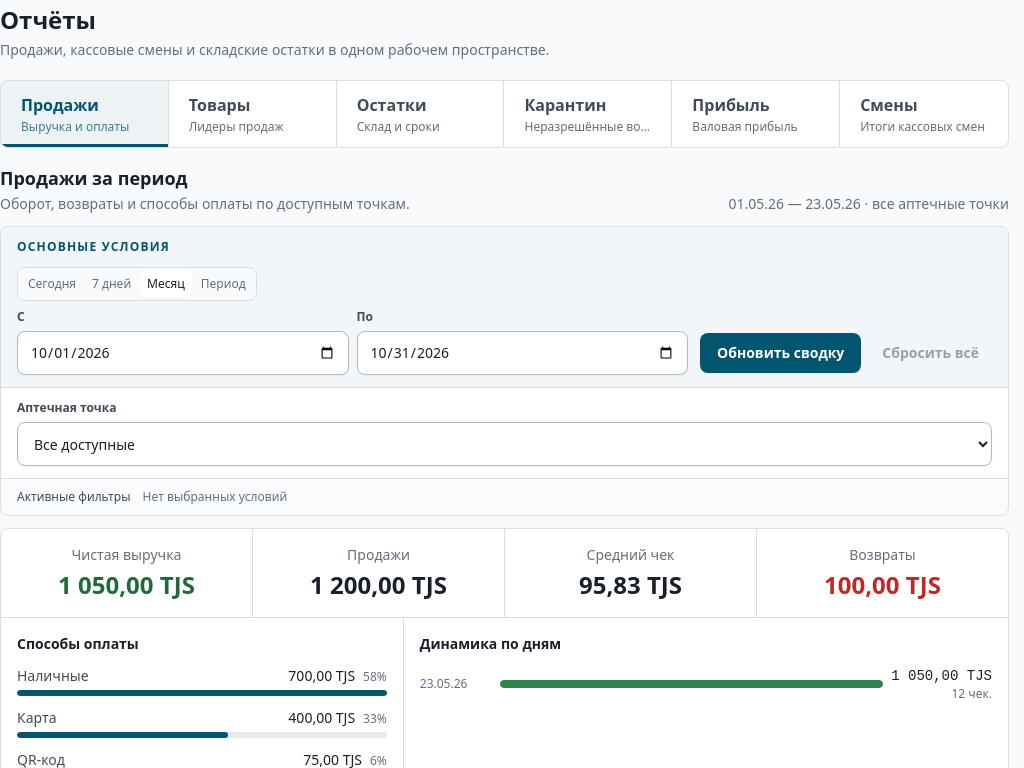
Test: ReportsPage › hides every export action when the account can only view reports
The image size is (1024, 768).
expect the text "Чистая выручка" is shown: met, box [72, 545, 181, 564]
Click the tab "Остатки Склад и сроки" at (421, 114), box [337, 81, 504, 147]
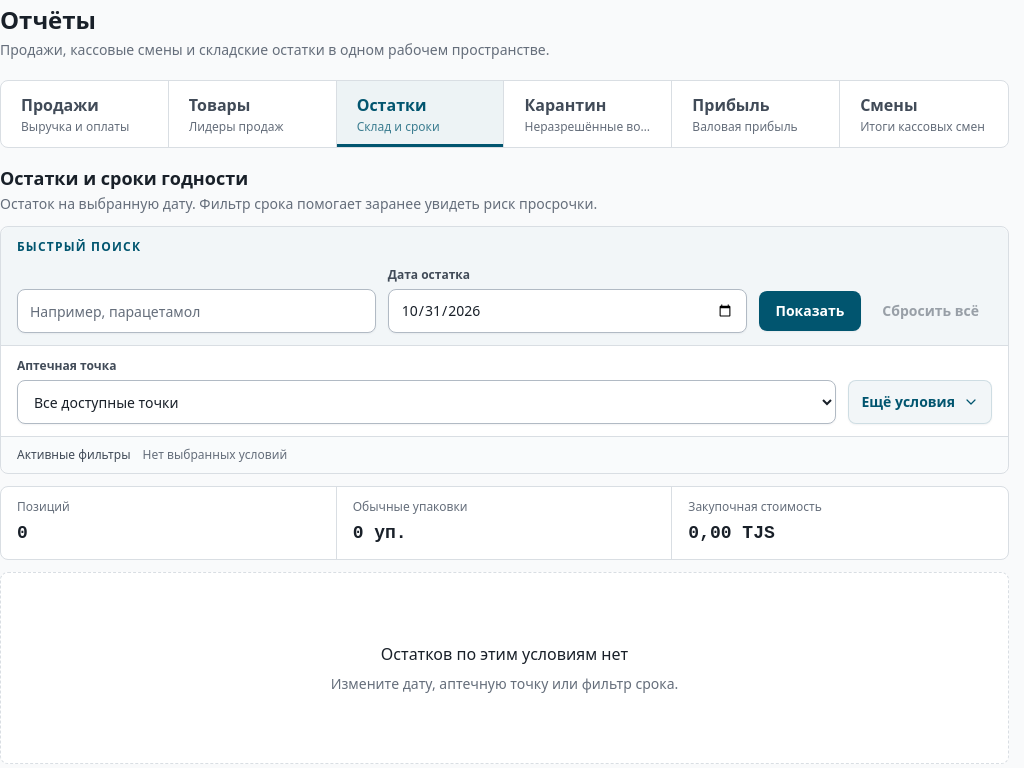
Click the tab "Смены Итоги кассовых смен" at (924, 114), box [840, 81, 1008, 147]
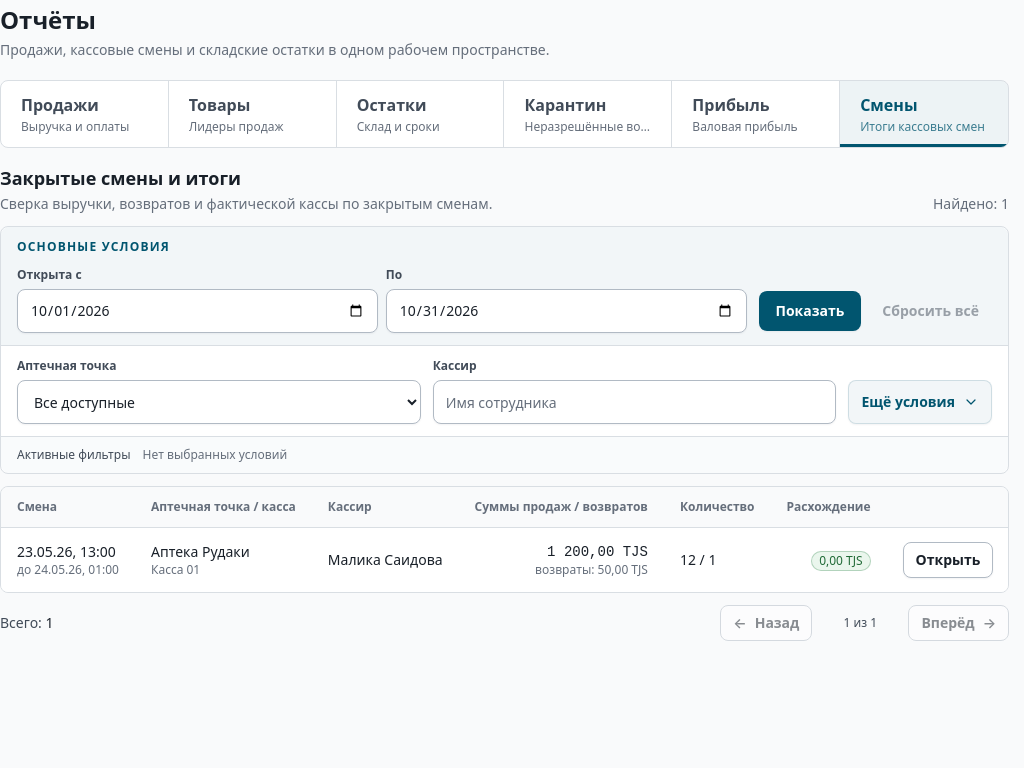
Click the button "Открыть" at (948, 560), box [903, 542, 993, 578]
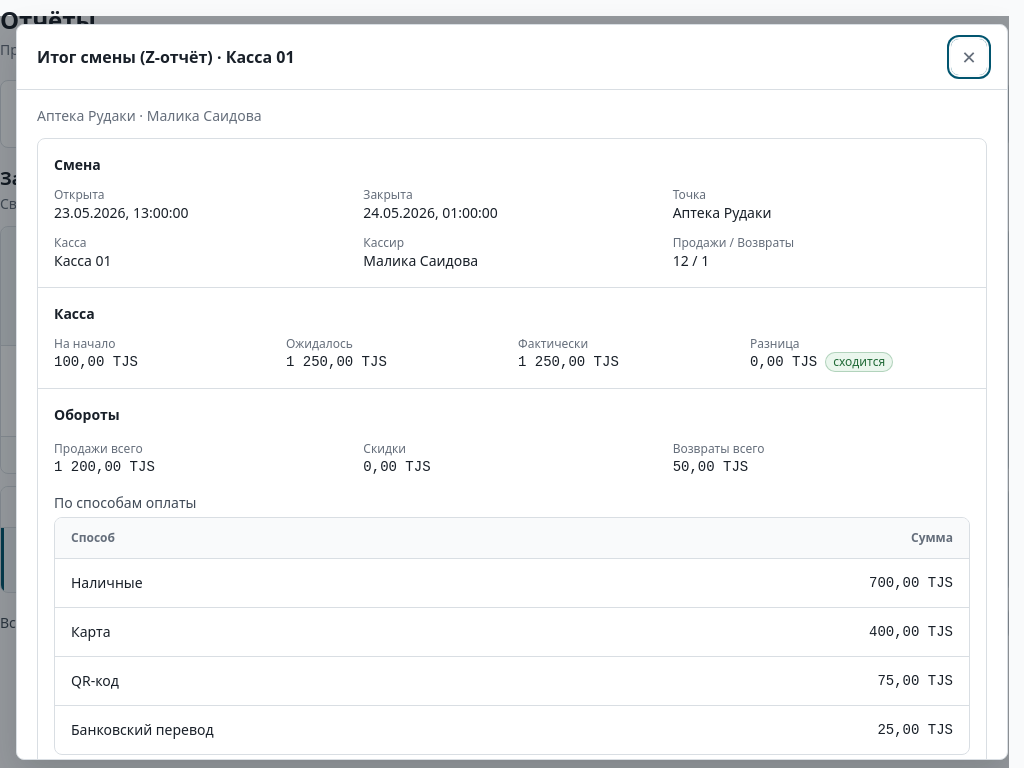
expect the text "На начало" is shown: met, box [54, 335, 115, 352]
